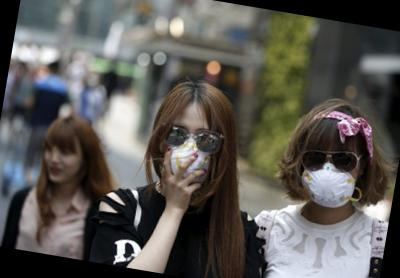with_mask: (296, 140, 363, 213), (157, 118, 218, 187)
without_mask: (41, 142, 84, 187)
